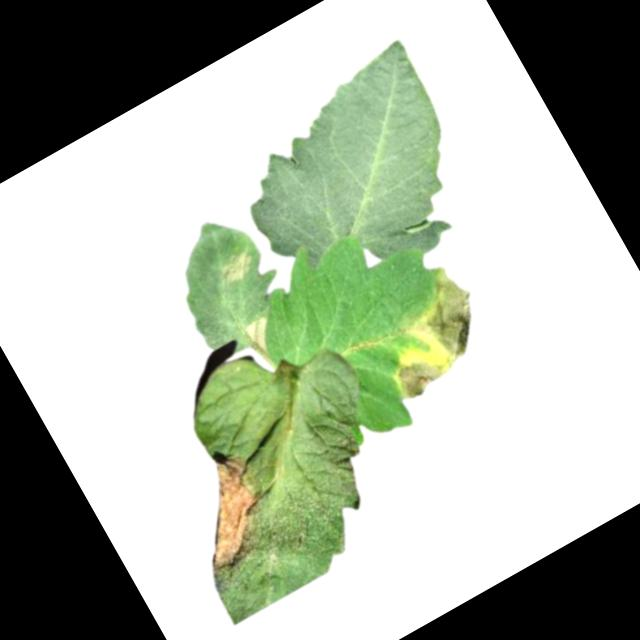Late_blight: (165, 444, 293, 581), (400, 258, 500, 368), (386, 341, 455, 403), (242, 315, 286, 364), (215, 247, 259, 288)
